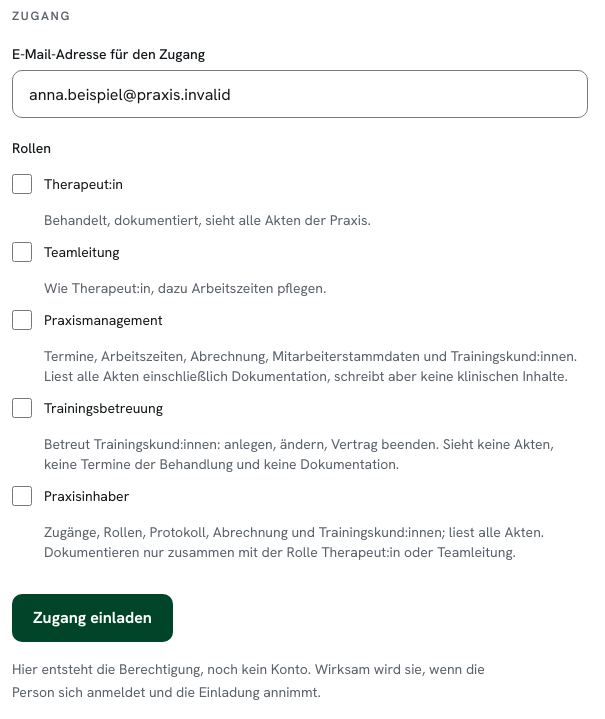
StaffAccountSection › erklärt eine abgewiesene Einladung, statt nur zu scheitern
What coordinates should you click on to do the following:
click the checkbox labelled "Praxismanagement"
I would click on:
 (22, 320)
Its box is [12,310,32,330].
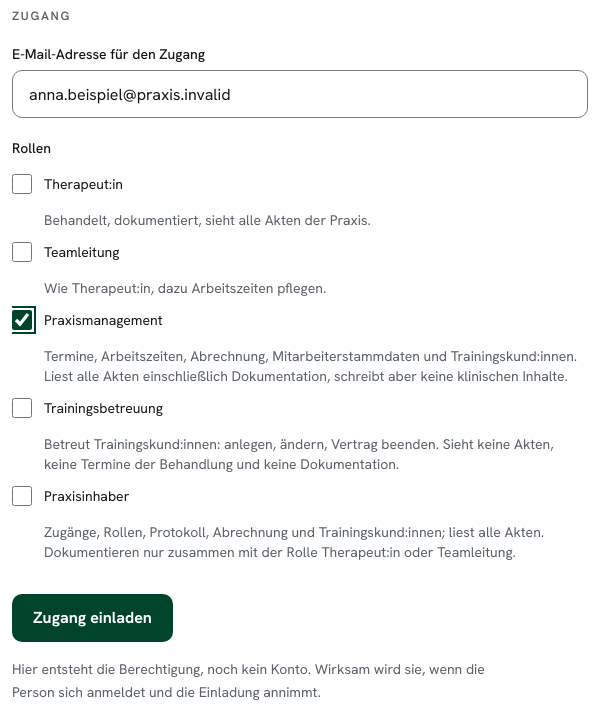
What coordinates should you click on to do the following:
click the button "Zugang einladen"
I would click on:
 (92, 618)
Its box is [12,594,173,642].
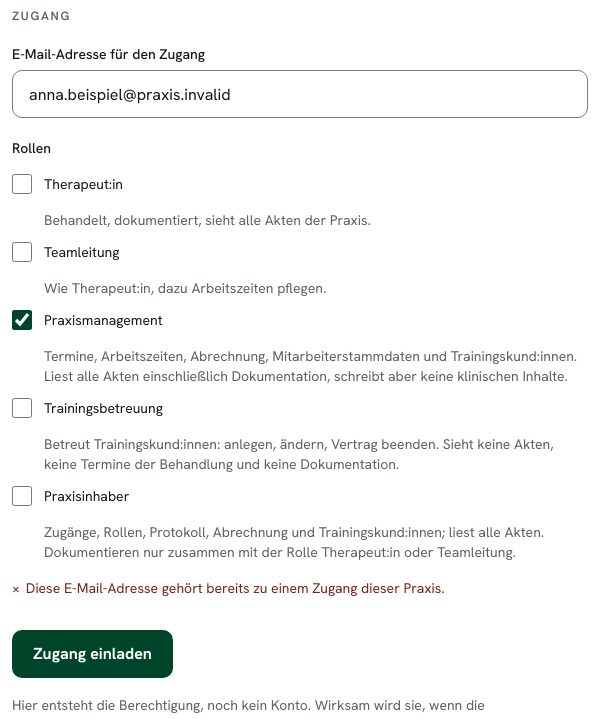
Expected: the text "Diese E-Mail-Adresse gehört bereits zu einem Zugang dieser Praxis." is shown, [26,579,445,597]
